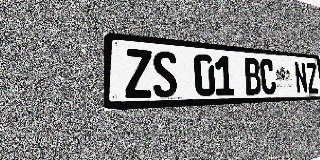0: (193, 53, 216, 97)
1: (214, 55, 234, 96)
B: (243, 57, 262, 95)
C: (259, 59, 276, 95)
N: (294, 61, 308, 94)
S: (152, 50, 178, 98)
Z: (124, 48, 153, 99), (305, 62, 319, 93)
